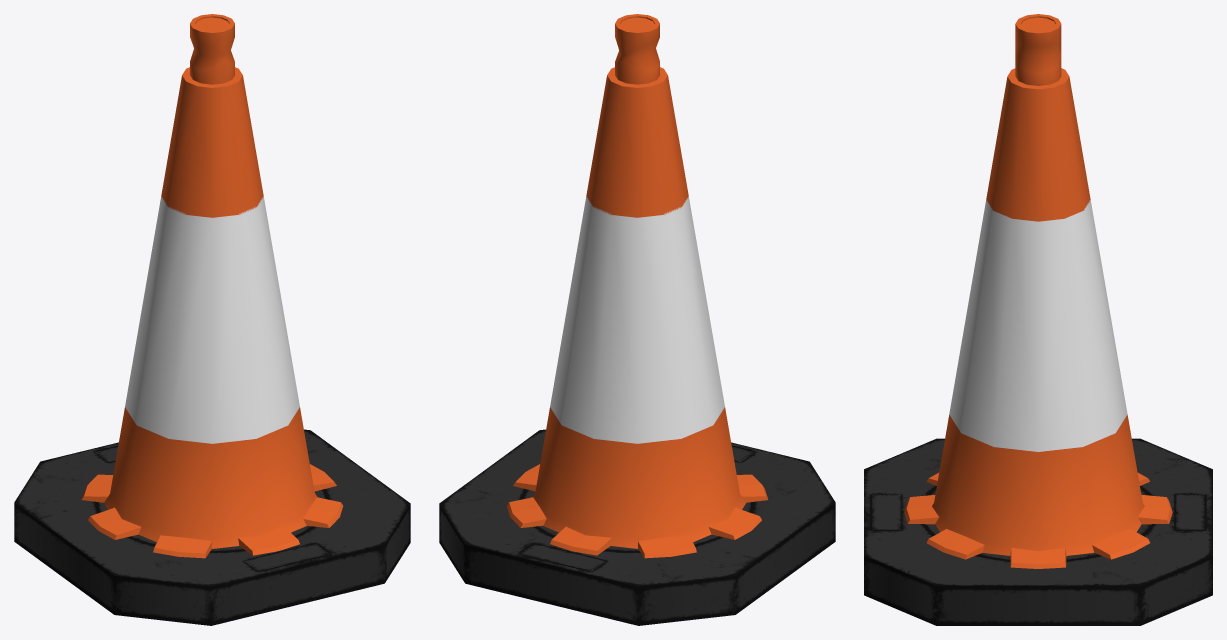
File: Traffic Cone.obj
3 renders of one model, left to right at view 1: azimuth 30°, elevation 25°; view 2: azimuth 150°, elevation 25°; view 3: azimuth 270°, elevation 25°, orthographic.
Visible parts, largest first — view 1: Traffic_Cone; view 2: Traffic_Cone; view 3: Traffic_Cone.
Boxes of the visible parts, <box> form: Traffic_Cone: <box>14,14,410,625</box>; Traffic_Cone: <box>439,14,835,625</box>; Traffic_Cone: <box>864,14,1212,625</box>.
Bounding box in the file's own units: 47.46 × 79.38 × 47.46.
1 material, 1 textured.
